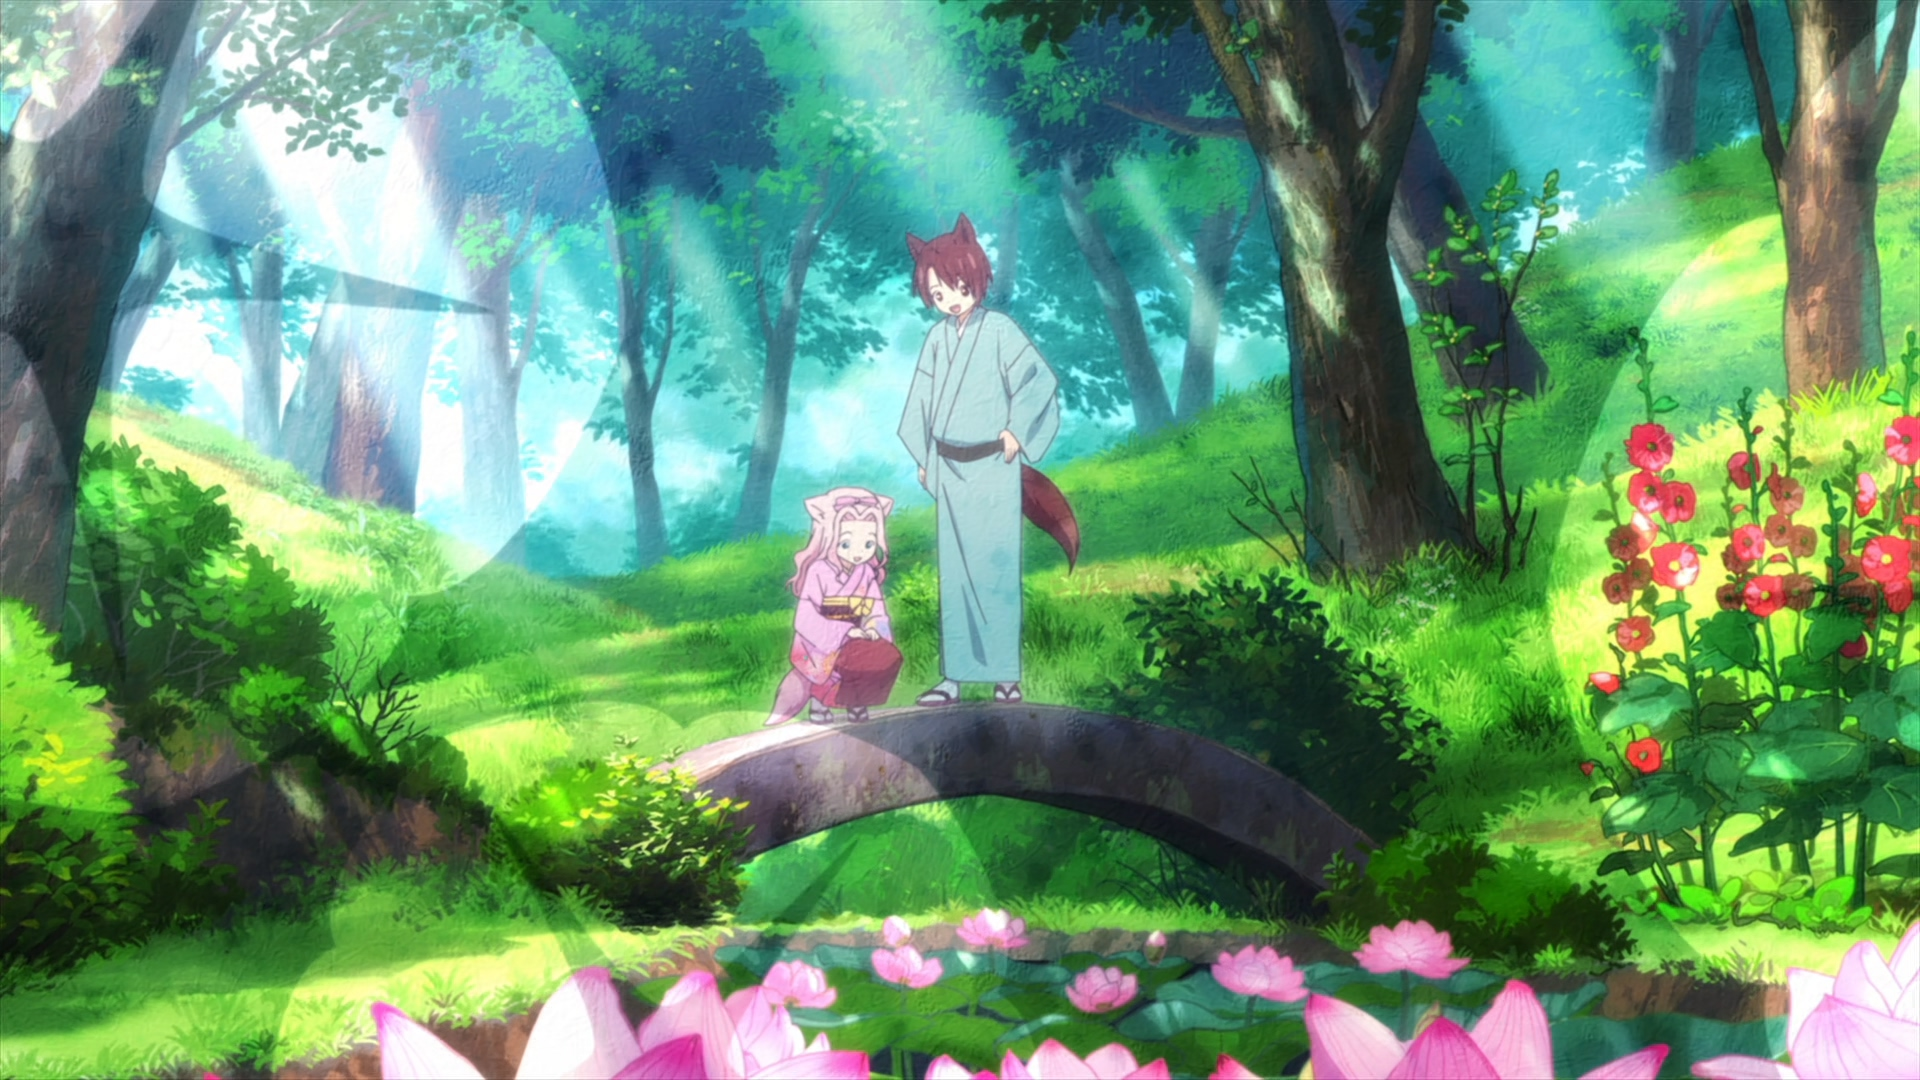枣: (899, 212, 1083, 704)
莲: (765, 488, 901, 728)
